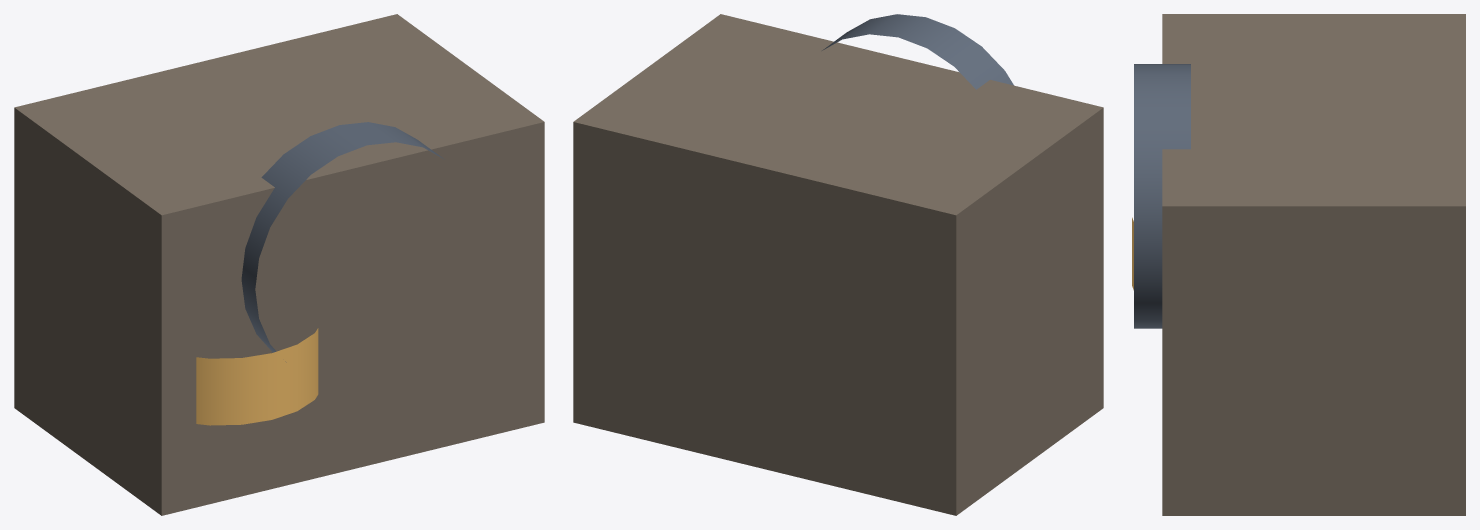
Rendered from audio_crossover_loudspeakers.glb.
3 views of the same model, side by side, from view 1: azimuth 30°, elevation 25°; view 2: azimuth 150°, elevation 25°; view 3: azimuth 270°, elevation 25° (orthographic). The views are drawn at different scales.
Visible parts, largest first — view 1: Loudspeaker3WayCrossoverChassis, AirCoreLowPassWooferInductor, MovingCoilDomeTweeterWoofer; view 2: Loudspeaker3WayCrossoverChassis, MovingCoilDomeTweeterWoofer; view 3: Loudspeaker3WayCrossoverChassis, MovingCoilDomeTweeterWoofer.
Part boxes in pixels (box(x1,y1,x2,y2)): Loudspeaker3WayCrossoverChassis: box(14, 14, 544, 515); AirCoreLowPassWooferInductor: box(196, 328, 318, 425); MovingCoilDomeTweeterWoofer: box(241, 122, 444, 362); Loudspeaker3WayCrossoverChassis: box(573, 14, 1103, 515); MovingCoilDomeTweeterWoofer: box(822, 14, 1013, 89); Loudspeaker3WayCrossoverChassis: box(1162, 14, 1465, 515); MovingCoilDomeTweeterWoofer: box(1134, 64, 1190, 328).
Size of the model in its own units: 1.2 by 1 by 0.88.
